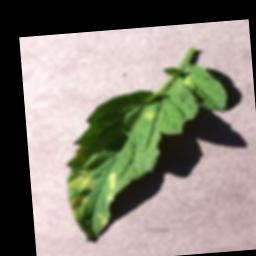Leaf_Mold: (64, 164, 121, 246)
